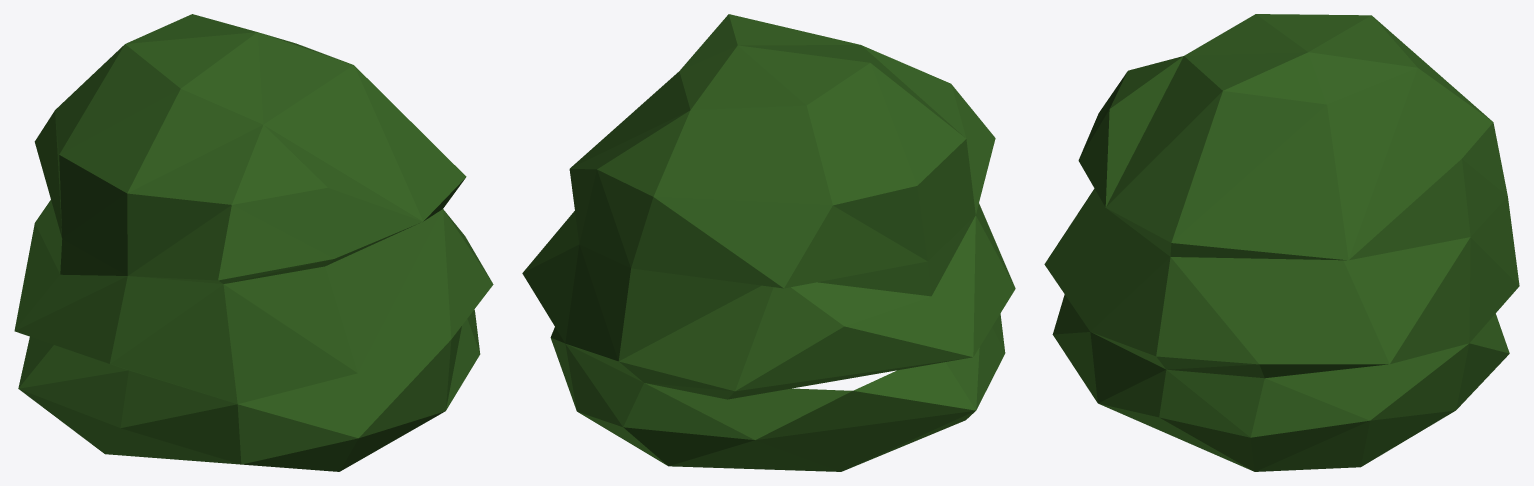
The model's file is bush_b.glb.
The picture shows the model from 3 angles, left to right: view 1: azimuth 30°, elevation 25°; view 2: azimuth 150°, elevation 25°; view 3: azimuth 270°, elevation 25°; orthographic projection. The views are drawn at different scales.
Parts seen in each view (by area): view 1: bush_b; view 2: bush_b; view 3: bush_b.
Boxes of the visible parts, box(x1,y1,x2,y2) form: bush_b: box(14, 14, 493, 471); bush_b: box(522, 14, 1015, 471); bush_b: box(1044, 14, 1519, 471).
Bounding box in the file's own units: 1.35 × 1.1 × 1.33.
